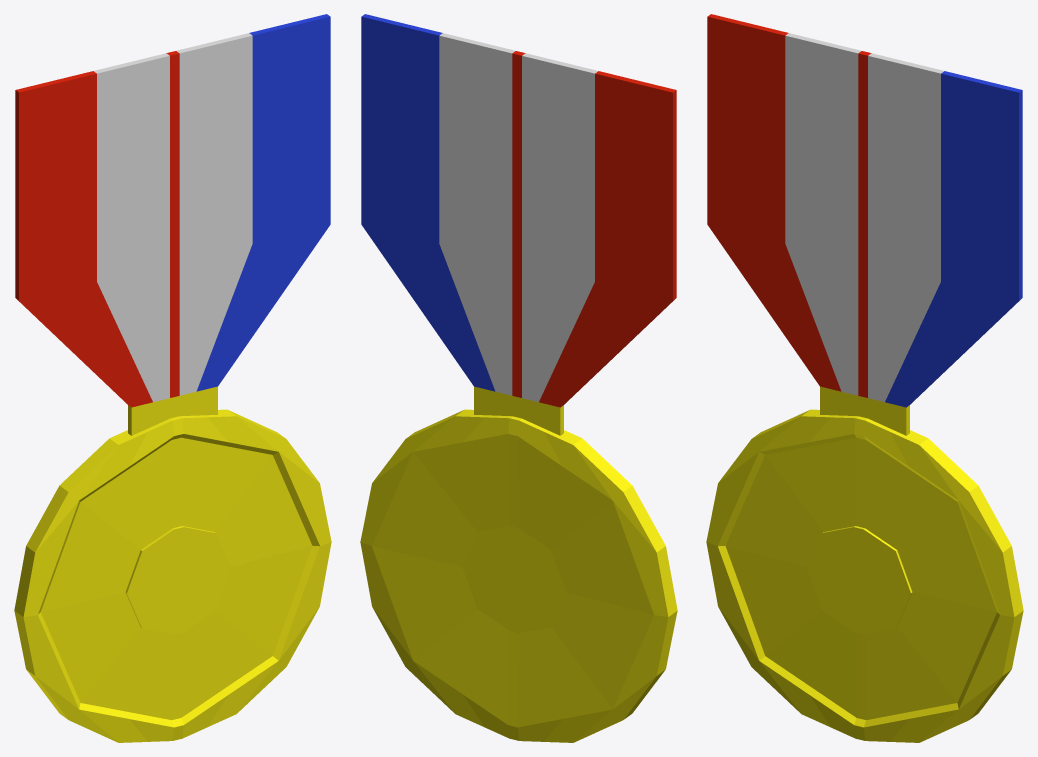
The model's file is low_poly_medal.fbx.
3 views of the same model, side by side, from view 1: azimuth 30°, elevation 25°; view 2: azimuth 150°, elevation 25°; view 3: azimuth 330°, elevation 25° (orthographic).
Visible parts, largest first — view 1: Cube; view 2: Cube; view 3: Cube.
Boxes of the visible parts, <box> form: Cube: <box>14,14,331,742</box>; Cube: <box>360,14,677,742</box>; Cube: <box>706,14,1023,742</box>.
Bounding box in the file's own units: 235 × 493 × 15.8.
